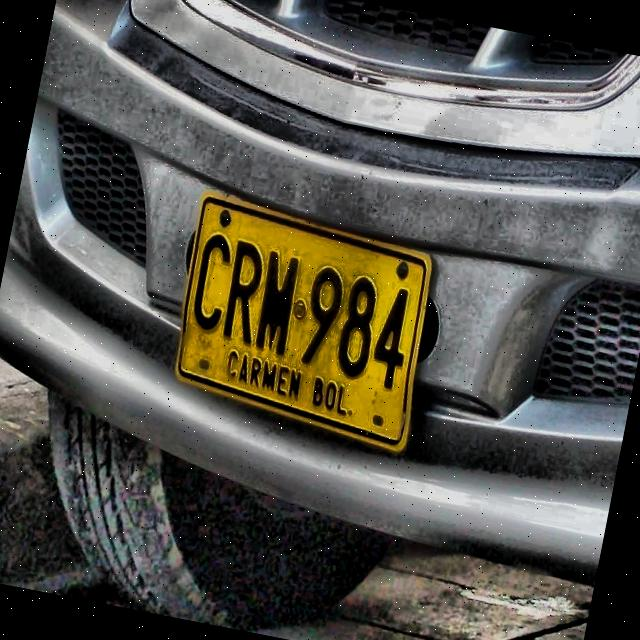plate: (178, 201, 429, 445)
